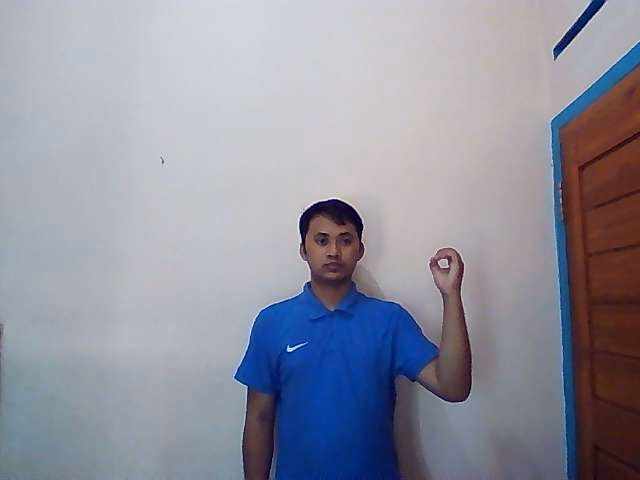O: (426, 247, 467, 292)
